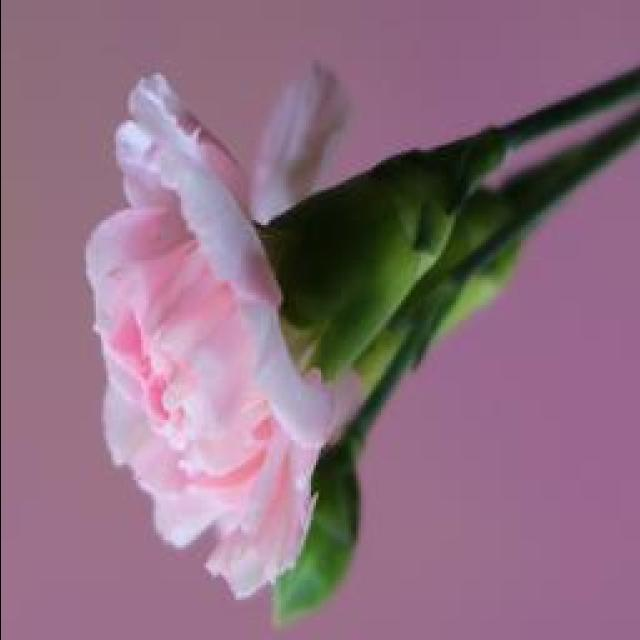carnation: (69, 58, 422, 640)
